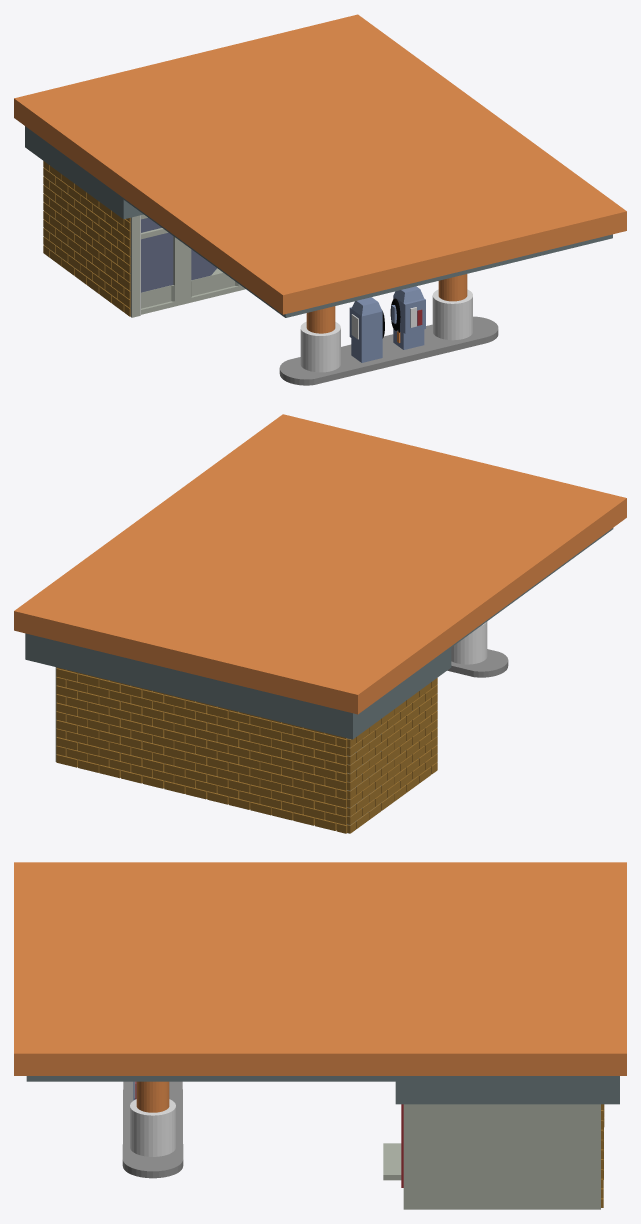
File: Building3.fbx
3 renders of one model, top to bottom at view 1: azimuth 30°, elevation 25°; view 2: azimuth 150°, elevation 25°; view 3: azimuth 270°, elevation 25°, orthographic. The views are drawn at different scales.
Visible parts, largest first — view 1: Cube.012; view 2: Cube.012; view 3: Cube.012.
Part boxes in pixels (<box>): Cube.012: <box>14,14,626,385</box>; Cube.012: <box>14,414,626,833</box>; Cube.012: <box>14,862,626,1209</box>.
Size of the model in its own units: 2749 by 1159 by 3724.
